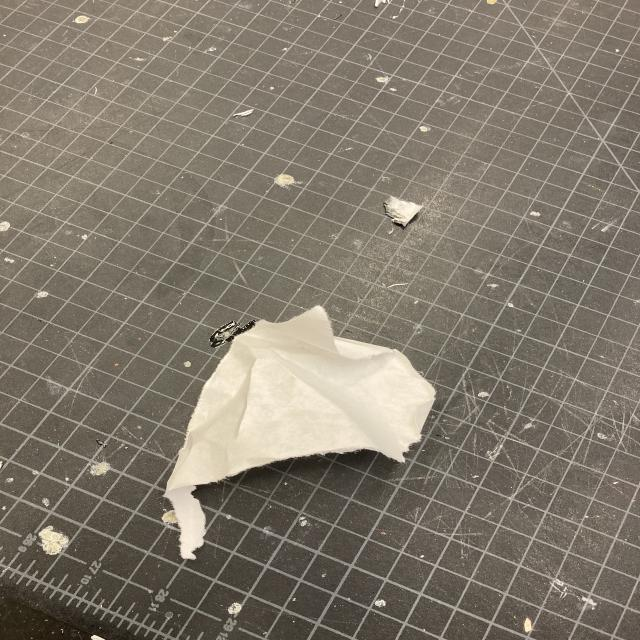paper: (146, 294, 450, 570)
trash-zQNu: (146, 297, 449, 572)
